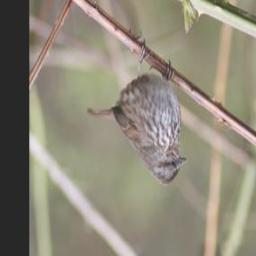Sparrow: (84, 38, 190, 189)
